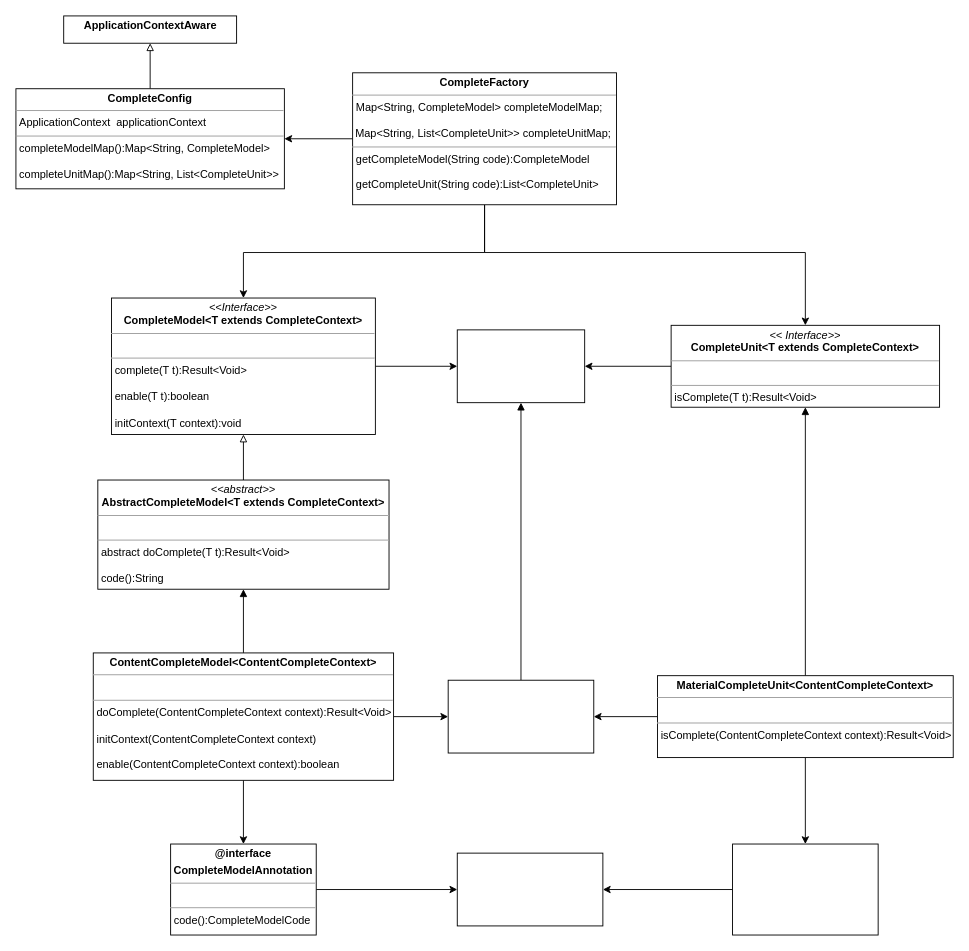
The diagram is 969 pixels wide and 951 high, and some of its shapes have lost their labels. The centre of each missing label's shape, as x and y in pixels:
@interface CompleteUnitAnnotation code():CompleteModelCode: the point at 805,889
CompleteContext: the point at 520,366
ContentCompleteContext: the point at 520,716
enum CompleteModelCode String code;: the point at 529,889
